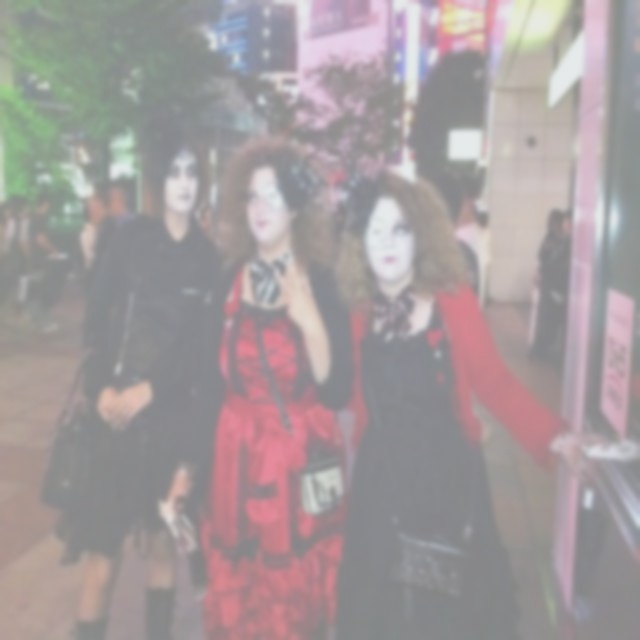pessoa: (317, 167, 607, 639), (162, 131, 360, 639), (36, 126, 232, 639), (411, 168, 481, 302), (78, 189, 110, 410), (526, 206, 566, 359), (452, 169, 492, 315), (528, 206, 564, 356), (93, 179, 145, 272), (26, 189, 58, 335), (0, 195, 31, 332), (474, 210, 492, 316), (199, 210, 229, 240), (78, 288, 100, 318)
